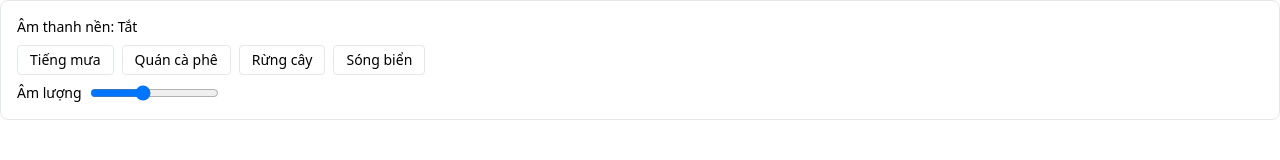
Test: WhiteNoisePlayer › toggles playing on click
The image size is (1280, 160).
Click the button "Tiếng mưa": (65, 60) 17,45 -> 114,75
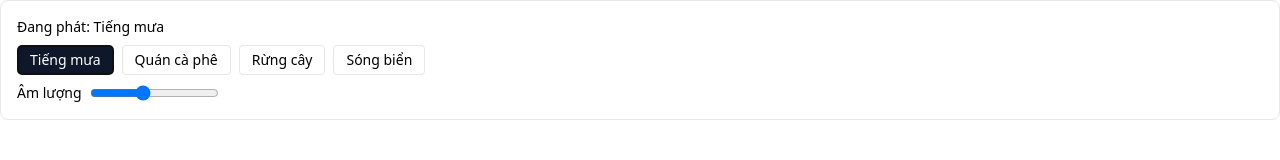
expect the text with test id "noise-state" shows "Đang phát": met, box 17,17 -> 164,36
